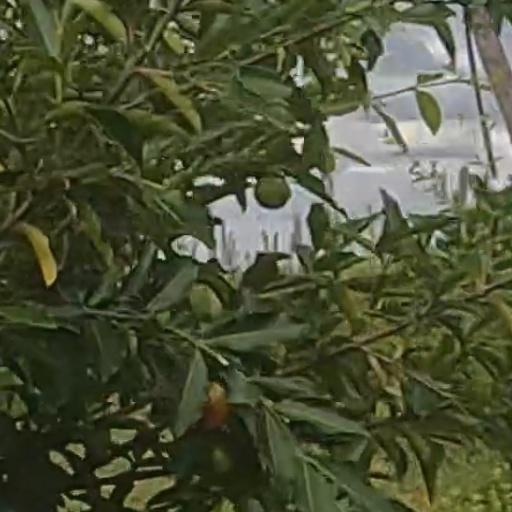acerola_verde: (258, 178, 287, 207)
acerola_vermelha: (207, 384, 223, 429)
